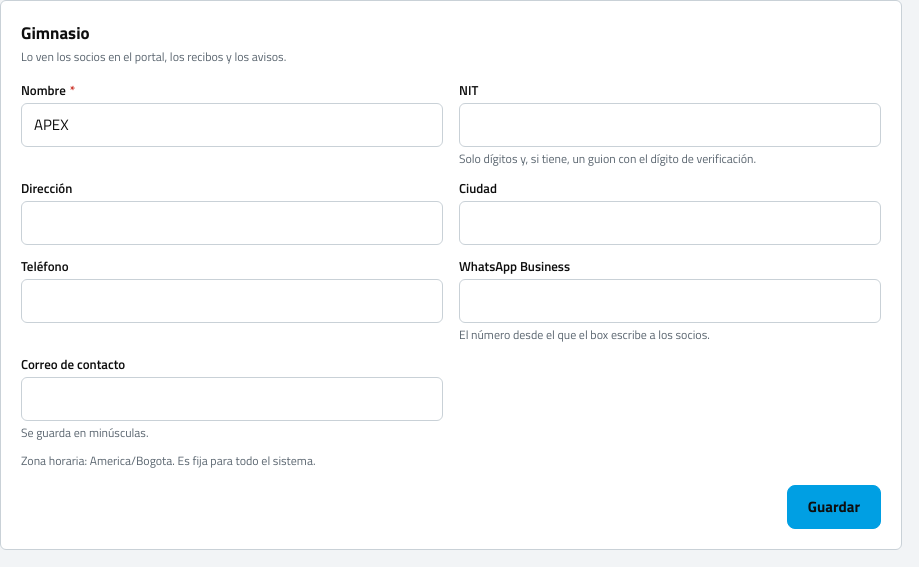
Scenario: GymSettingsForm › Cambios guardados desaparece al volver a editar
The width and height of the screenshot is (919, 567).
Step 1. Replace the text in the field labelled "Nombre*" with "Box" → (232, 125), box [21, 103, 443, 147]
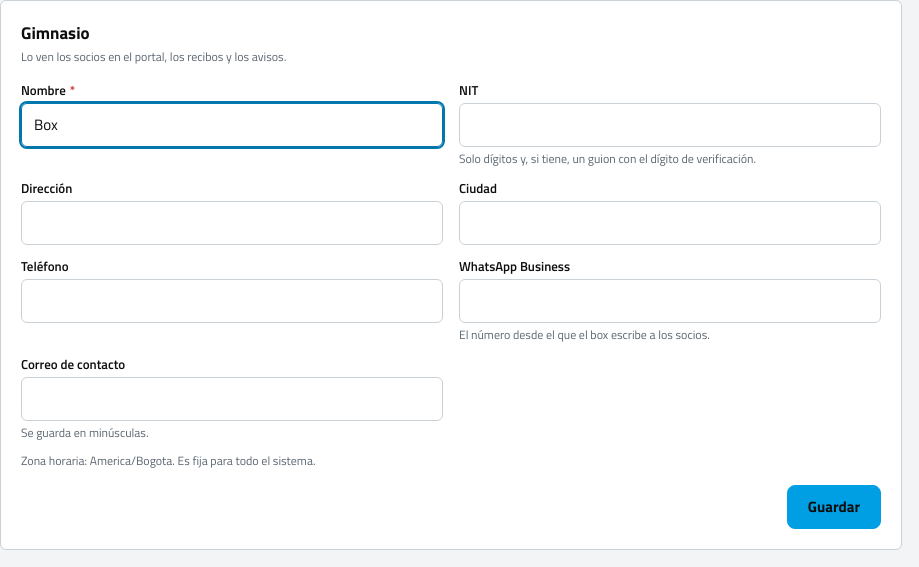
Step 2. Click the button "Guardar" → (834, 507), box [787, 485, 881, 529]
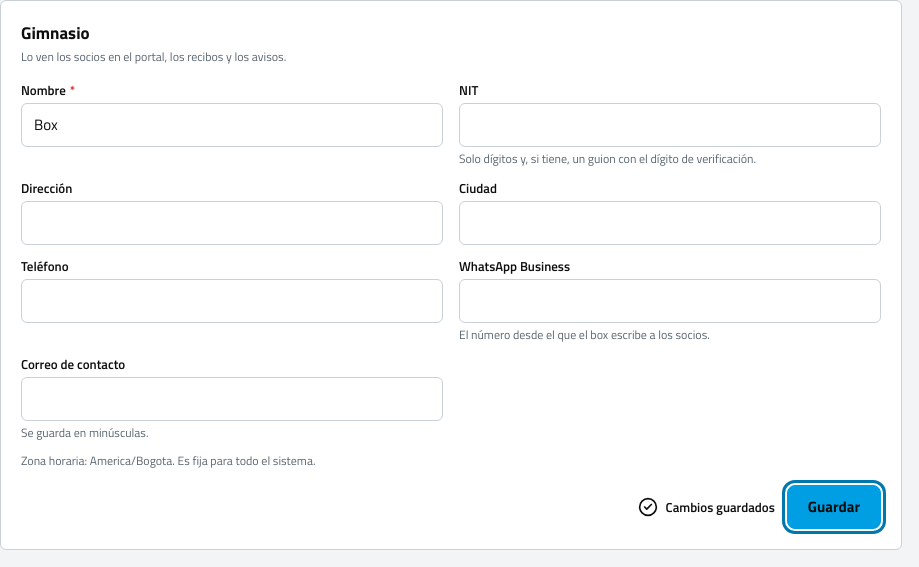
Check: the text "Cambios guardados" is shown, box [638, 497, 775, 517]
Step 3. Type " Norte" into the field labelled "Nombre*" → (232, 125), box [21, 103, 443, 147]
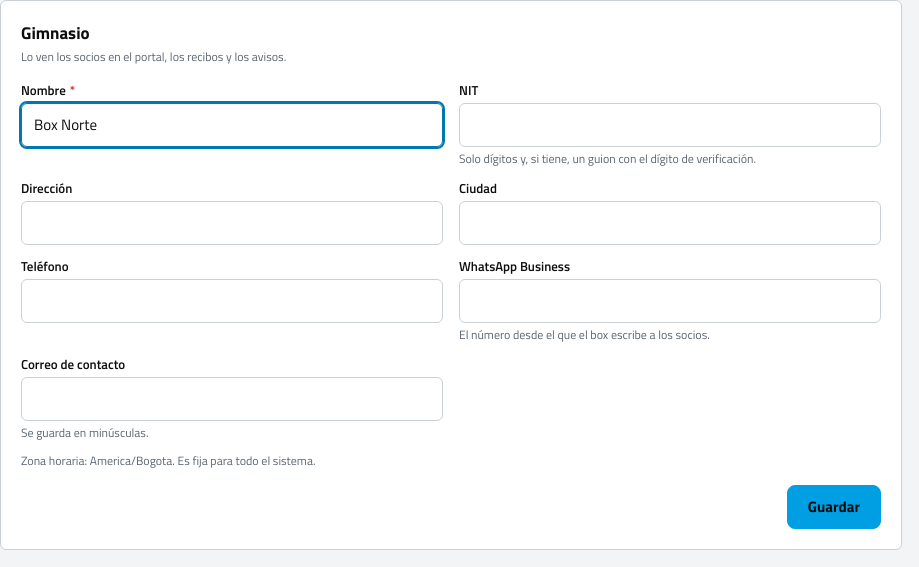
Check: the text "Cambios guardados" is gone
